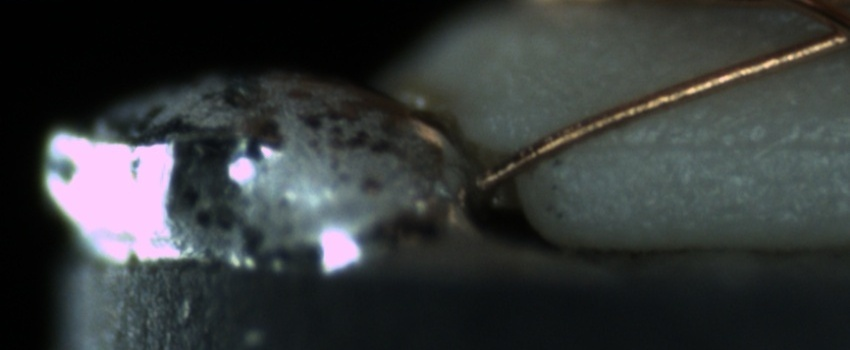CL: (793, 4, 849, 59)
DL: (577, 112, 841, 176)
